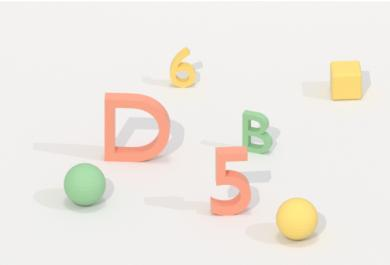0-KhoiVuong: (324, 55, 368, 106)
0-Tron: (272, 196, 321, 244), (62, 160, 108, 211)
5: (210, 142, 253, 218)
6: (164, 42, 200, 91)
B: (239, 104, 277, 157)
D: (100, 88, 170, 165)
